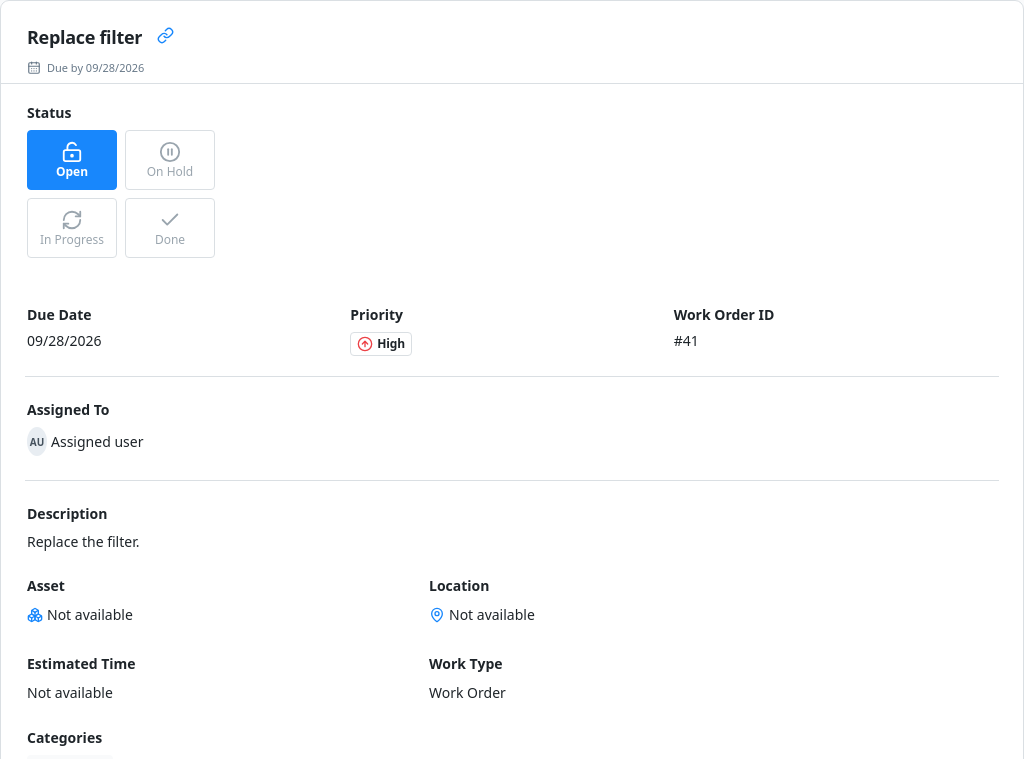
Test: WorkOrderDetail authorization › copies the current Work Order URL using the Link icon
The image size is (1024, 759).
Expected: the icon with class "lucide-link" is shown, x1=157 y1=27 x2=174 y2=44
Click the button named "Copy Work Order link". click: [166, 38]
box: x1=150 y1=22 x2=181 y2=53
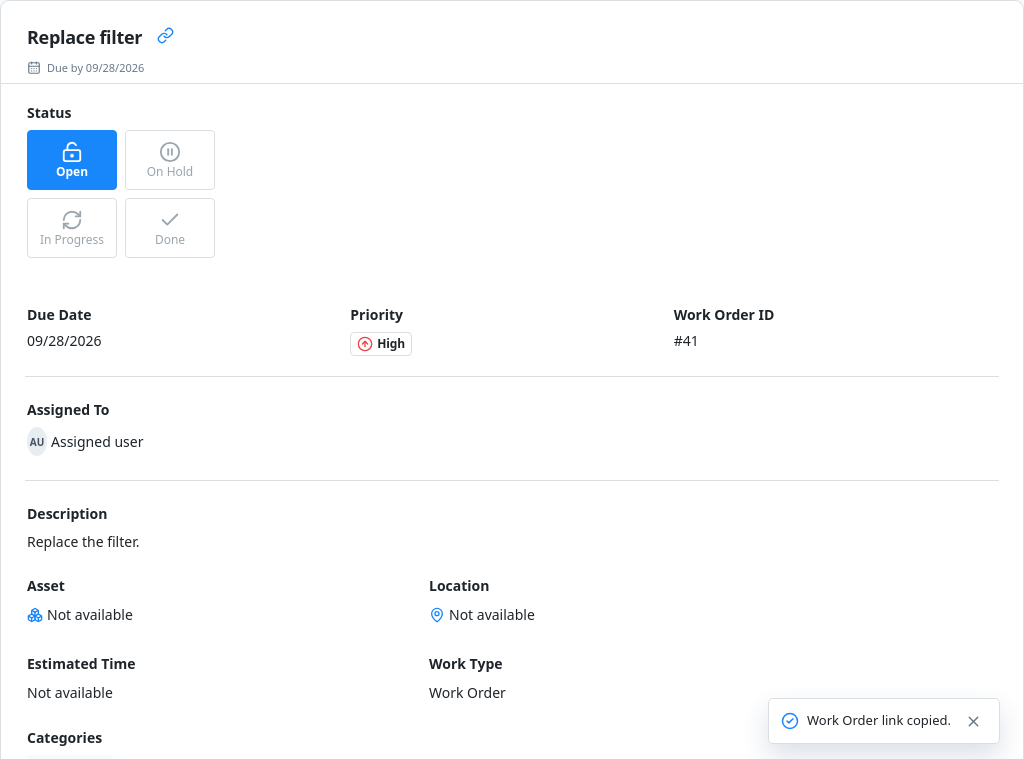
Result: the message reads "Work Order link copied." at x1=807 y1=711 x2=951 y2=729
